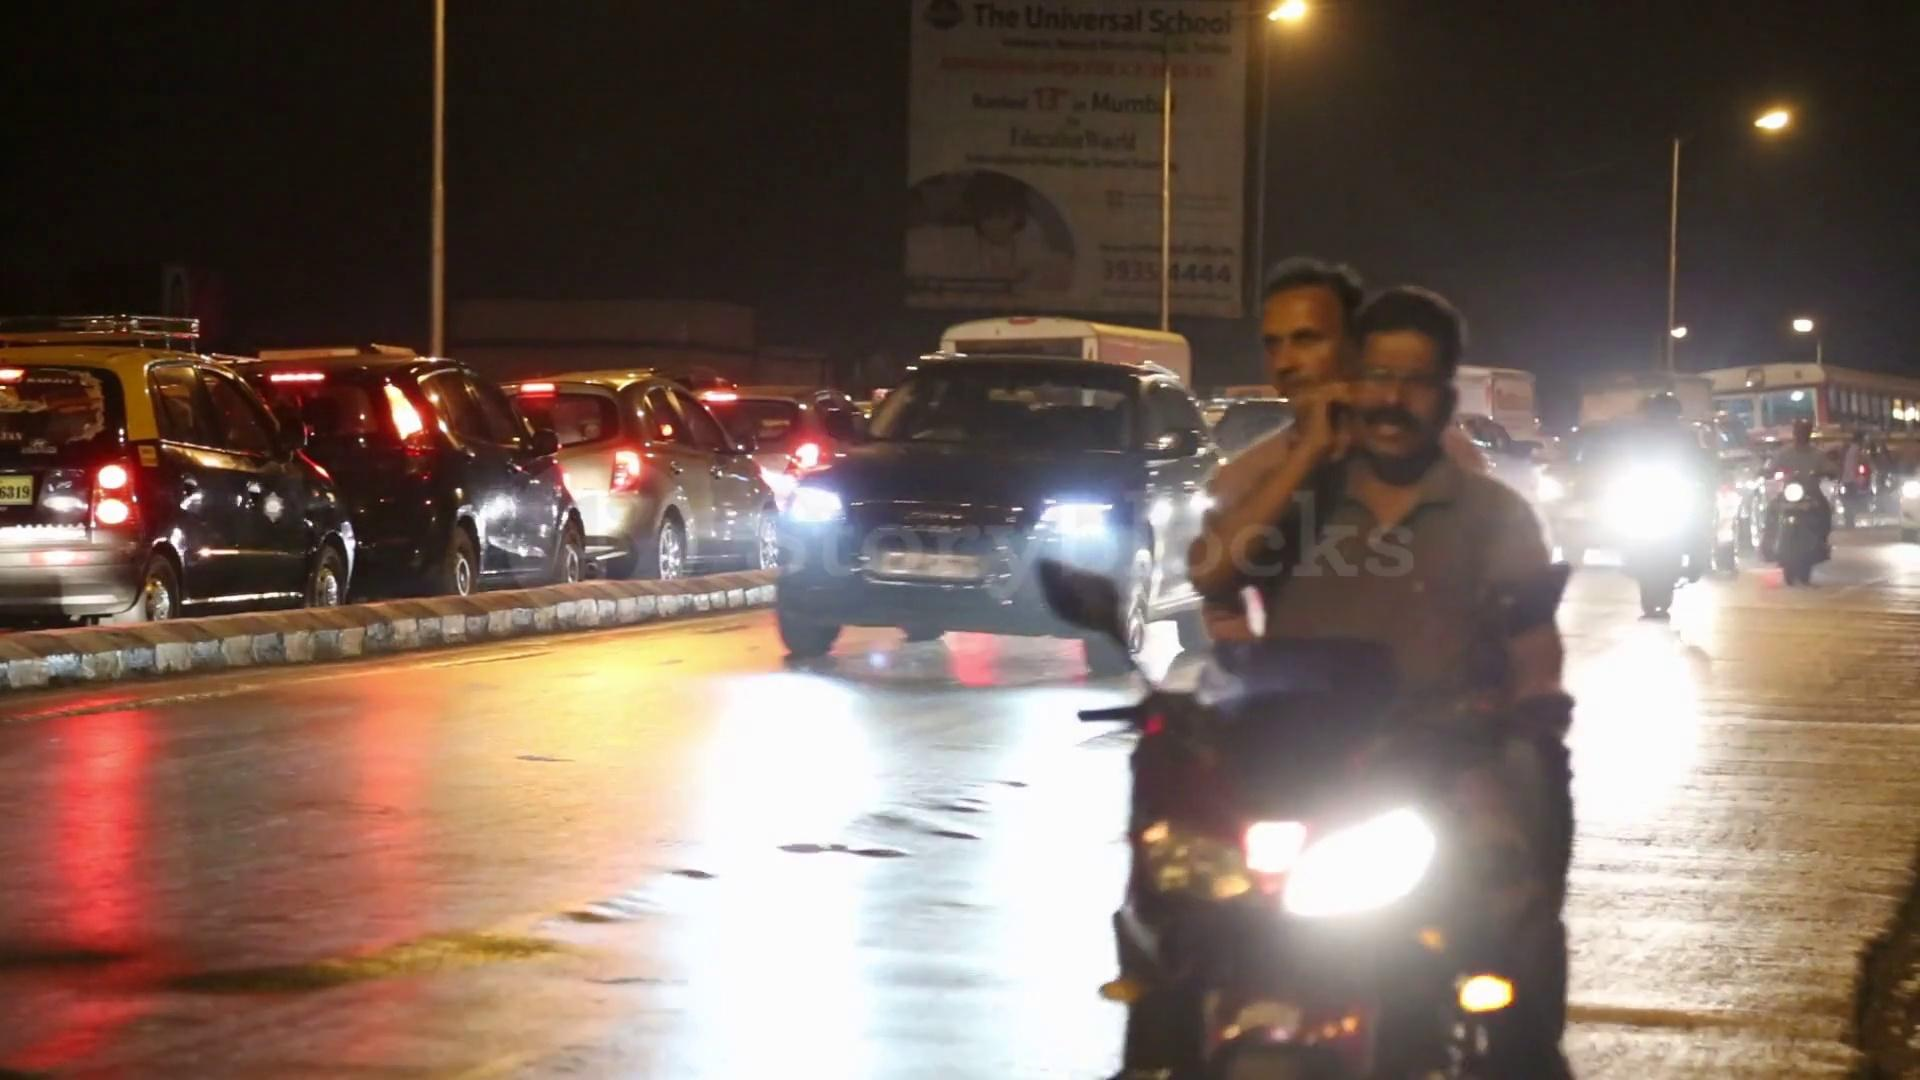rider: (1102, 282, 1577, 1077), (1767, 400, 1831, 583)
without_helmate: (1343, 293, 1457, 461), (1243, 259, 1344, 397)
